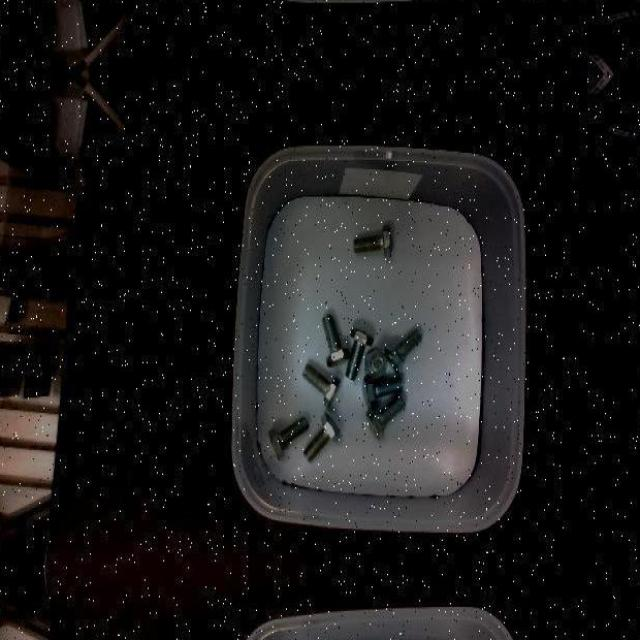screw: (366, 393, 404, 439), (302, 361, 340, 407), (304, 412, 339, 461), (270, 416, 308, 460), (321, 314, 350, 367), (385, 330, 421, 372), (346, 328, 374, 380), (354, 225, 392, 257), (364, 349, 386, 378)
